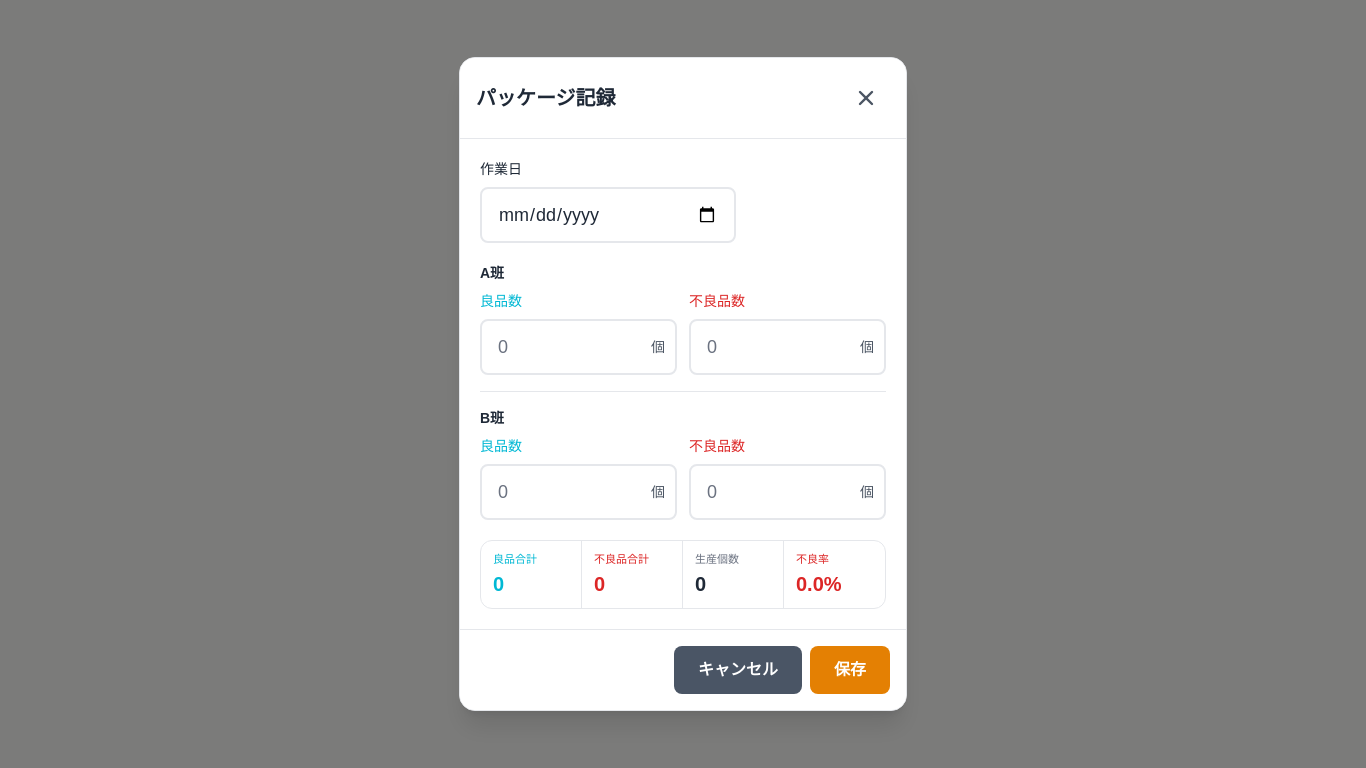
Test: PackageEntryModal › 作業日が空だと保存できずエラーを表示する
Click the button "保存" at (850, 670), box [810,646,890,694]
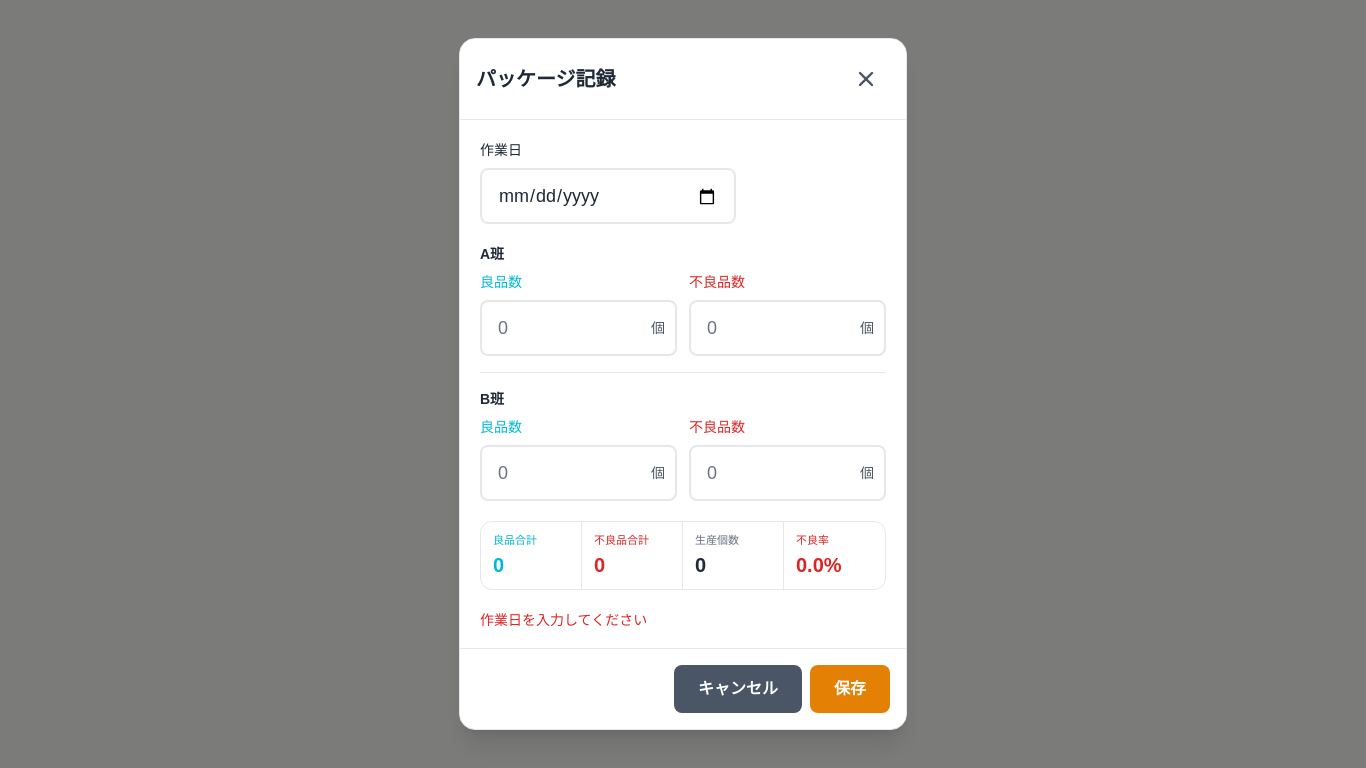
Expected: the message "作業日を入力してください" is shown, [480,612,647,628]
